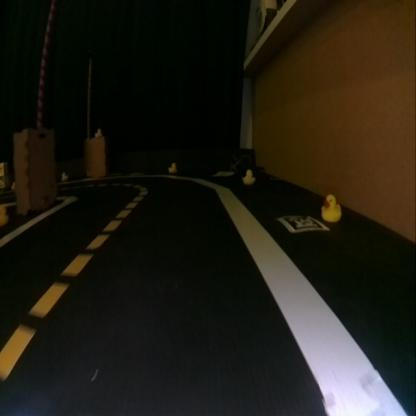Duckie: (322, 194, 341, 220), (243, 168, 254, 184), (1, 204, 7, 223), (168, 162, 176, 172), (94, 128, 101, 135), (61, 172, 67, 180)
QR code: (278, 215, 328, 232)
